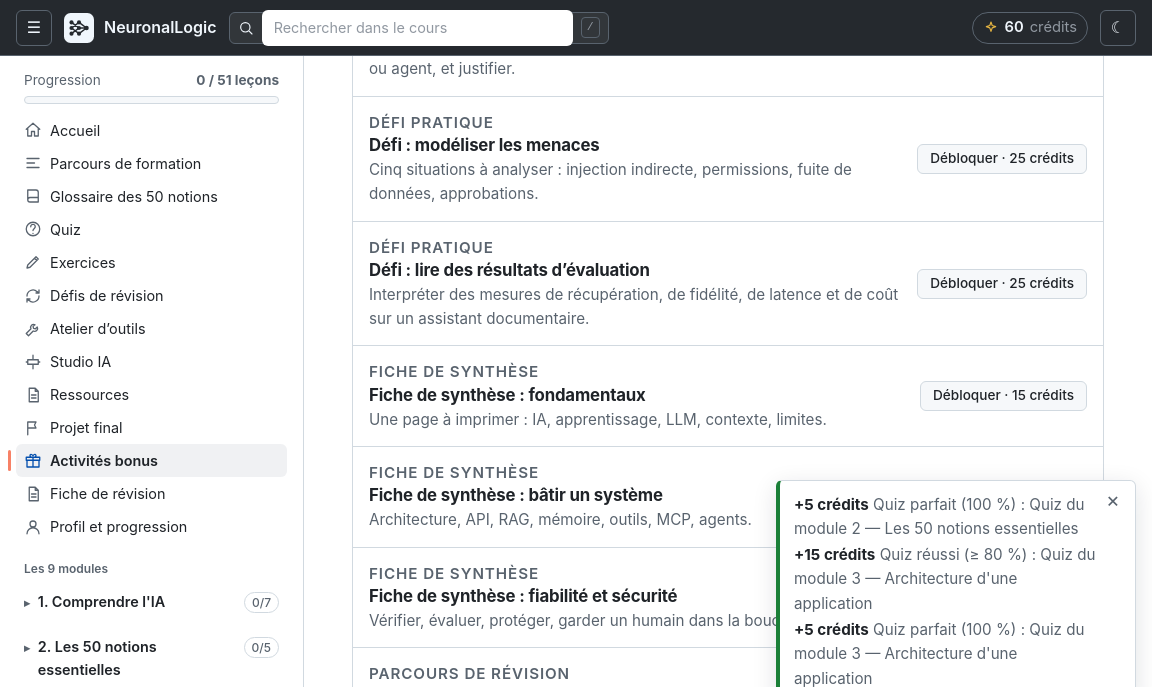
it: activités bonus : dépense avec confirmation › affiche le coût, demande confirmation, annule sans rien retirer, puis débloque et retire exactement le coût
(page scrolled)
Click the button with aria-label "Débloquer Fiche de synthèse : fondamentaux pour 15 crédits": (1004, 396) [920, 381, 1087, 411]
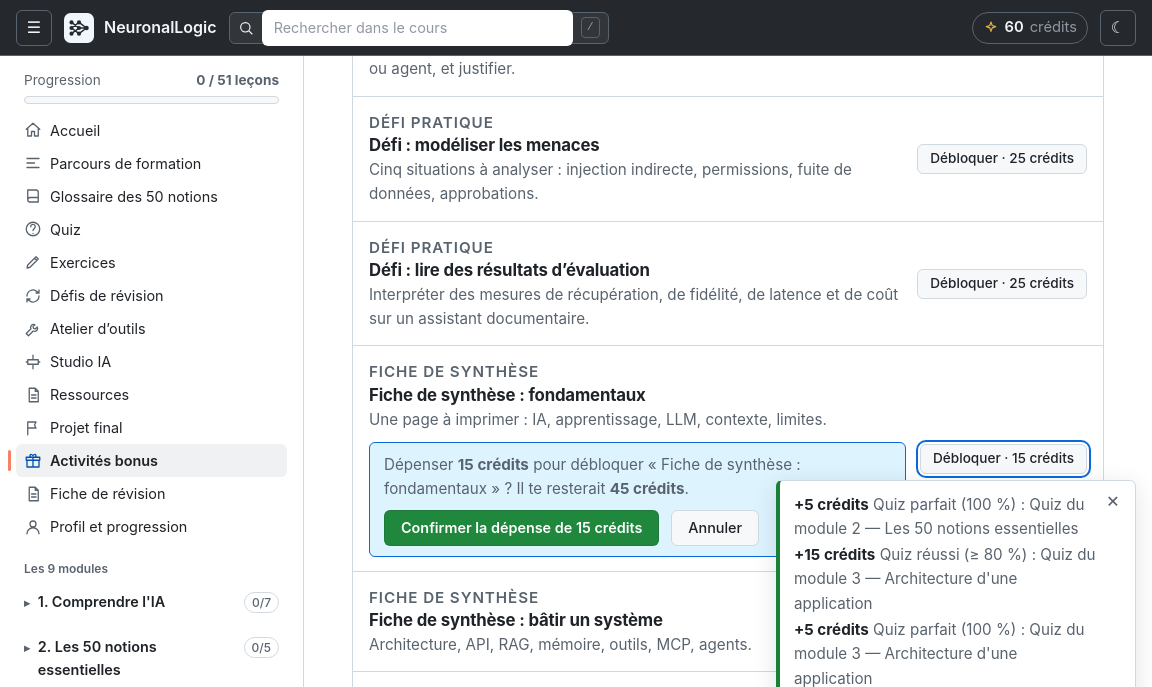
Now the text "Il te resterait" is shown, box [487, 479, 610, 498]
Click the button "Annuler": (715, 528) [671, 510, 759, 546]
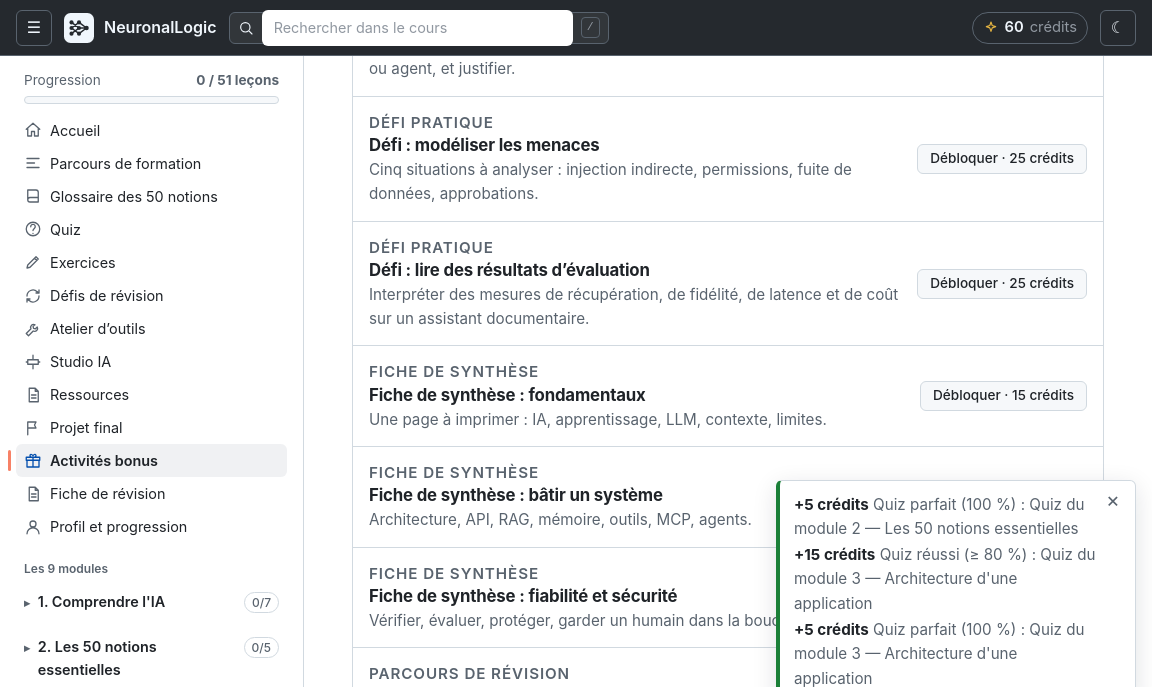
Click the button with aria-label "Débloquer Fiche de synthèse : fondamentaux": (1004, 396) [920, 381, 1087, 411]
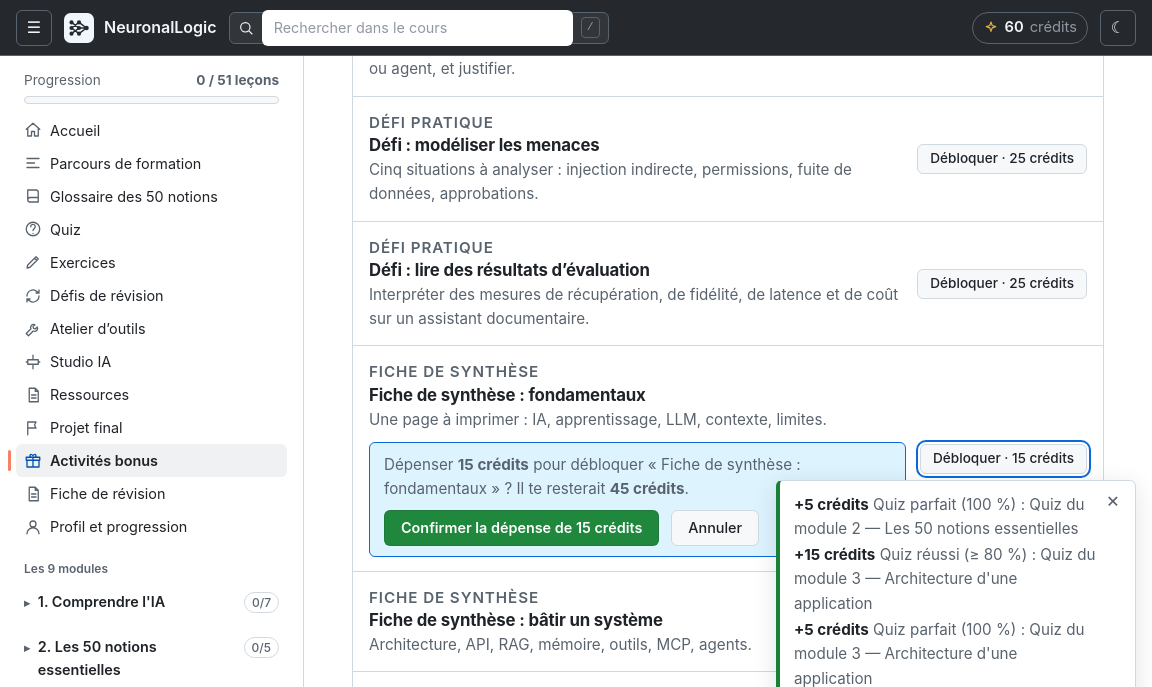
Click the button "Confirmer la dépense de 15 crédits": (522, 528) [384, 510, 659, 546]
(page scrolled)
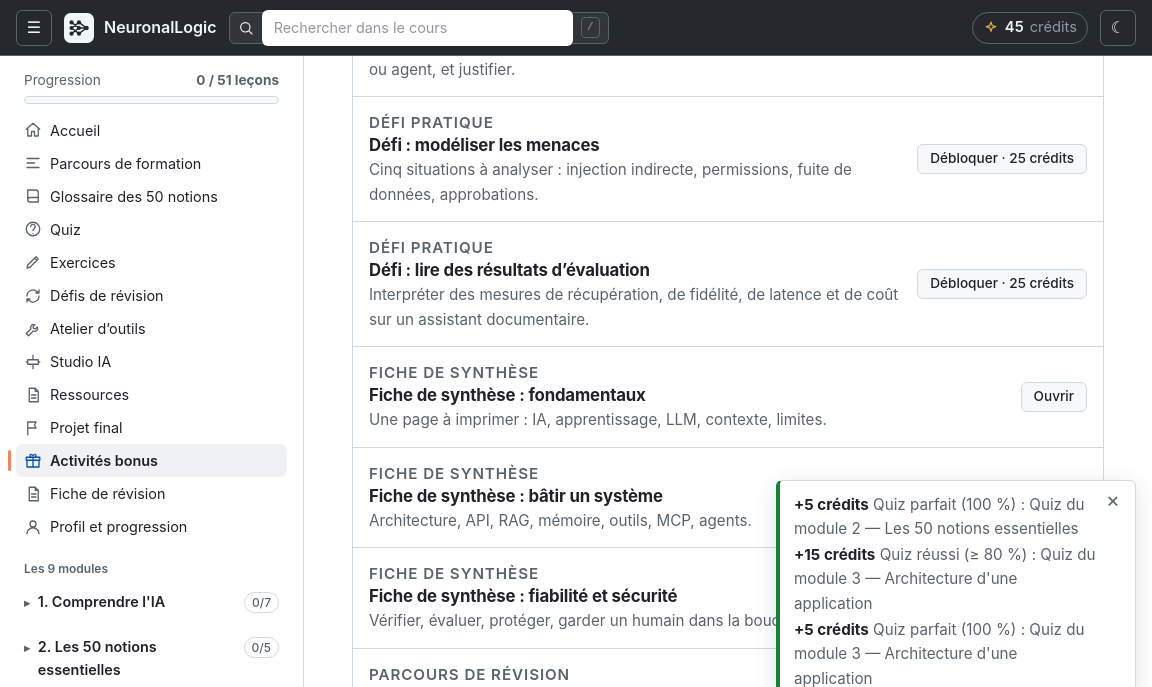
Now the link "Ouvrir" is shown, box [1020, 382, 1087, 412]
